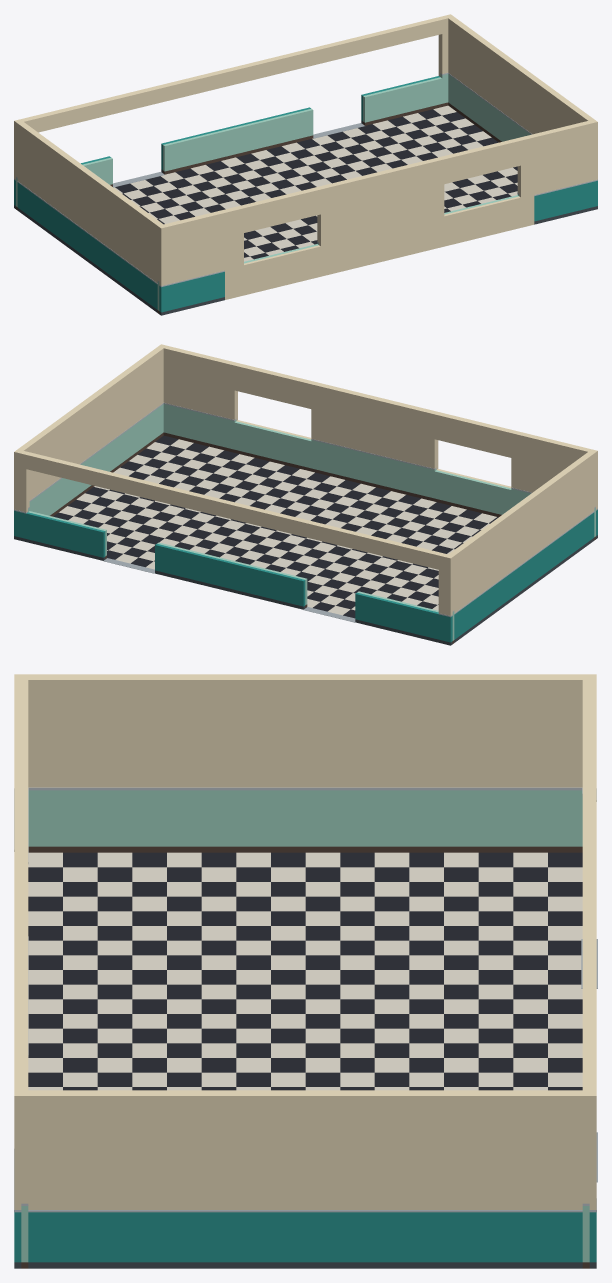
File: ARCH_Salon.glb
3 renders of one model, top to bottom at view 1: azimuth 30°, elevation 25°; view 2: azimuth 150°, elevation 25°; view 3: azimuth 270°, elevation 25°, orthographic. The views are drawn at different scales.
Parts seen in each view (by area): view 1: Duvar_Guney_Ortak_Kasa, Zemin_Dama_50, Duvar_Kuzey_Vitrin, Duvar_Bati, Duvar_Dogu, Duvar_Guney_Dis_Bati, Duvar_Guney_Dis_Dogu; view 2: Zemin_Dama_50, Duvar_Guney_Ortak_Kasa, Duvar_Kuzey_Vitrin, Duvar_Bati, Duvar_Dogu, Duvar_Guney_Dis_Dogu, Duvar_Guney_Dis_Bati; view 3: Zemin_Dama_50, Duvar_Bati, Duvar_Dogu, Duvar_Kuzey_Vitrin, Duvar_Guney_Ortak_Kasa, Duvar_Guney_Dis_Dogu, Duvar_Guney_Dis_Bati.
Part boxes in pixels (x1,y1,x2,y2): Duvar_Guney_Ortak_Kasa: [222, 135, 534, 299]; Zemin_Dama_50: [114, 105, 517, 261]; Duvar_Kuzey_Vitrin: [14, 14, 453, 210]; Duvar_Bati: [17, 122, 163, 312]; Duvar_Dogu: [448, 17, 593, 142]; Duvar_Guney_Dis_Bati: [157, 210, 224, 315]; Duvar_Guney_Dis_Dogu: [531, 119, 597, 224]; Zemin_Dama_50: [53, 435, 498, 618]; Duvar_Guney_Ortak_Kasa: [221, 360, 533, 517]; Duvar_Kuzey_Vitrin: [14, 449, 454, 645]; Duvar_Bati: [448, 452, 594, 642]; Duvar_Dogu: [18, 347, 163, 516]; Duvar_Guney_Dis_Dogu: [158, 344, 224, 449]; Duvar_Guney_Dis_Bati: [530, 435, 597, 540]; Zemin_Dama_50: [28, 852, 582, 1090]; Duvar_Bati: [28, 674, 582, 852]; Duvar_Dogu: [28, 1090, 582, 1268]; Duvar_Kuzey_Vitrin: [582, 674, 596, 1268]; Duvar_Guney_Ortak_Kasa: [14, 735, 28, 1057]; Duvar_Guney_Dis_Dogu: [14, 1034, 28, 1268]; Duvar_Guney_Dis_Bati: [14, 674, 28, 851].
Bounding box in the file's own units: 14.41 × 2.75 × 8.43.
